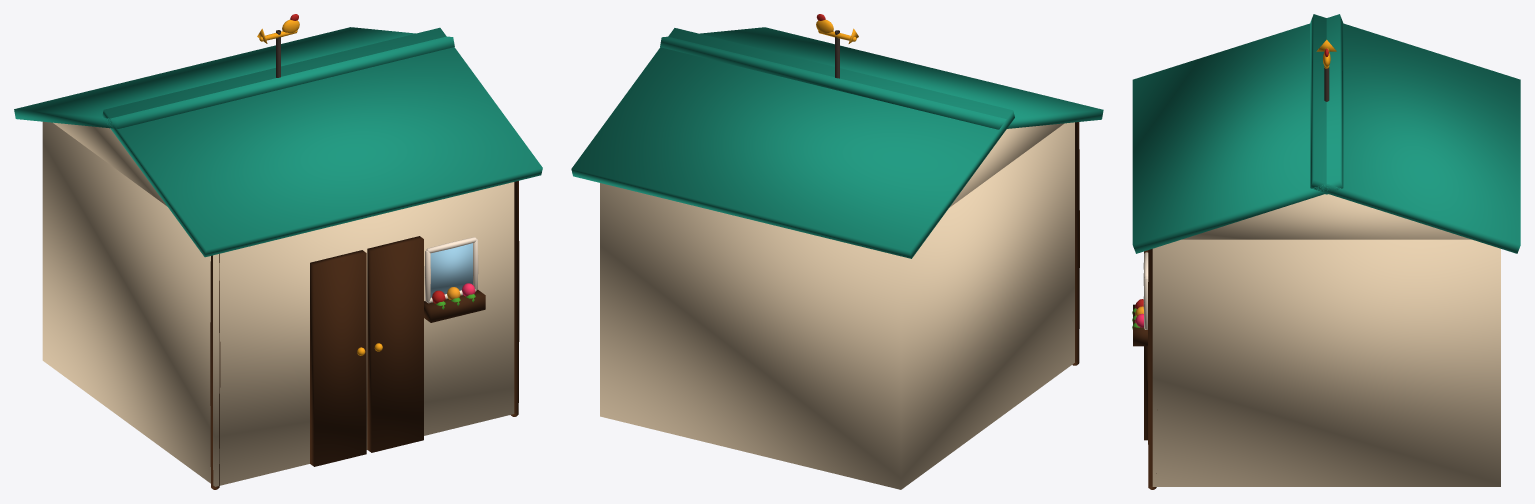
Rendered from shed_l3.glb.
3 renders of one model, left to right at view 1: azimuth 30°, elevation 25°; view 2: azimuth 150°, elevation 25°; view 3: azimuth 270°, elevation 25°, orthographic.
Visible parts, largest first — view 1: ShedL3; view 2: ShedL3; view 3: ShedL3.
Boxes of the visible parts, x1,y1,x2,y2 form: ShedL3: (14, 14, 542, 489); ShedL3: (571, 14, 1103, 489); ShedL3: (1132, 14, 1520, 489).
Bounding box in the file's own units: 2.7 × 2.85 × 2.68.
Materials: 1 (1 with a texture image).
